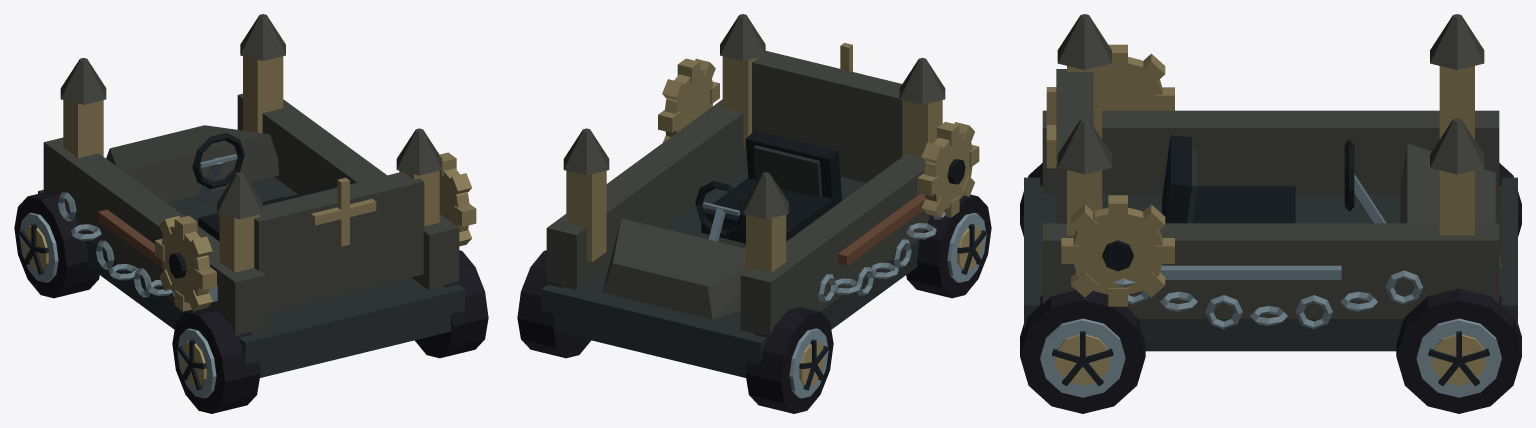
Rendered from kart.glb.
3 renders of one model, left to right at view 1: azimuth 30°, elevation 25°; view 2: azimuth 150°, elevation 25°; view 3: azimuth 270°, elevation 25°, orthographic. The views are drawn at different scales.
Parts seen in each view (by area): view 1: identity-reliquary-reliquary-arched-stone-chest, wheel-rear-left, identity-reliquary-motif-gears, wheel-front-left, wheel-rear-right, identity-reliquary-driver-cockpit, identity-reliquary-motif-chains, identity-reliquary-motif-tools; view 2: identity-reliquary-reliquary-arched-stone-chest, identity-reliquary-driver-cockpit, identity-reliquary-motif-gears, wheel-front-left, wheel-rear-left, wheel-front-right, identity-reliquary-motif-chains, identity-reliquary-motif-tools; view 3: identity-reliquary-reliquary-arched-stone-chest, identity-reliquary-motif-gears, wheel-front-right, wheel-rear-right, identity-reliquary-driver-cockpit, identity-reliquary-motif-chains, identity-reliquary-motif-tools.
Boxes of the visible parts, x1,y1,x2,y2 form: identity-reliquary-reliquary-arched-stone-chest: (38, 14, 464, 377); wheel-rear-left: (172, 307, 260, 413); identity-reliquary-motif-gears: (155, 152, 476, 311); wheel-front-left: (14, 191, 99, 298); wheel-rear-right: (415, 250, 488, 358); identity-reliquary-driver-cockpit: (192, 132, 329, 241); identity-reliquary-motif-chains: (58, 192, 174, 297); identity-reliquary-motif-tools: (98, 209, 217, 301); identity-reliquary-reliquary-arched-stone-chest: (541, 14, 945, 377); identity-reliquary-driver-cockpit: (695, 130, 841, 243); identity-reliquary-motif-gears: (658, 58, 979, 217); wheel-front-left: (745, 307, 833, 413); wheel-rear-left: (906, 194, 991, 298); wheel-front-right: (517, 250, 590, 358); identity-reliquary-motif-chains: (817, 212, 945, 302); identity-reliquary-motif-tools: (837, 193, 925, 265); identity-reliquary-reliquary-arched-stone-chest: (1024, 14, 1517, 351); identity-reliquary-motif-gears: (1061, 44, 1174, 306); wheel-front-right: (1396, 288, 1521, 413); wheel-rear-right: (1020, 290, 1145, 413); identity-reliquary-driver-cockpit: (1162, 135, 1386, 223); identity-reliquary-motif-chains: (1128, 270, 1423, 329); identity-reliquary-motif-tools: (1112, 265, 1341, 286).
Size of the model in its own units: 1.99 by 1.51 by 2.56.
